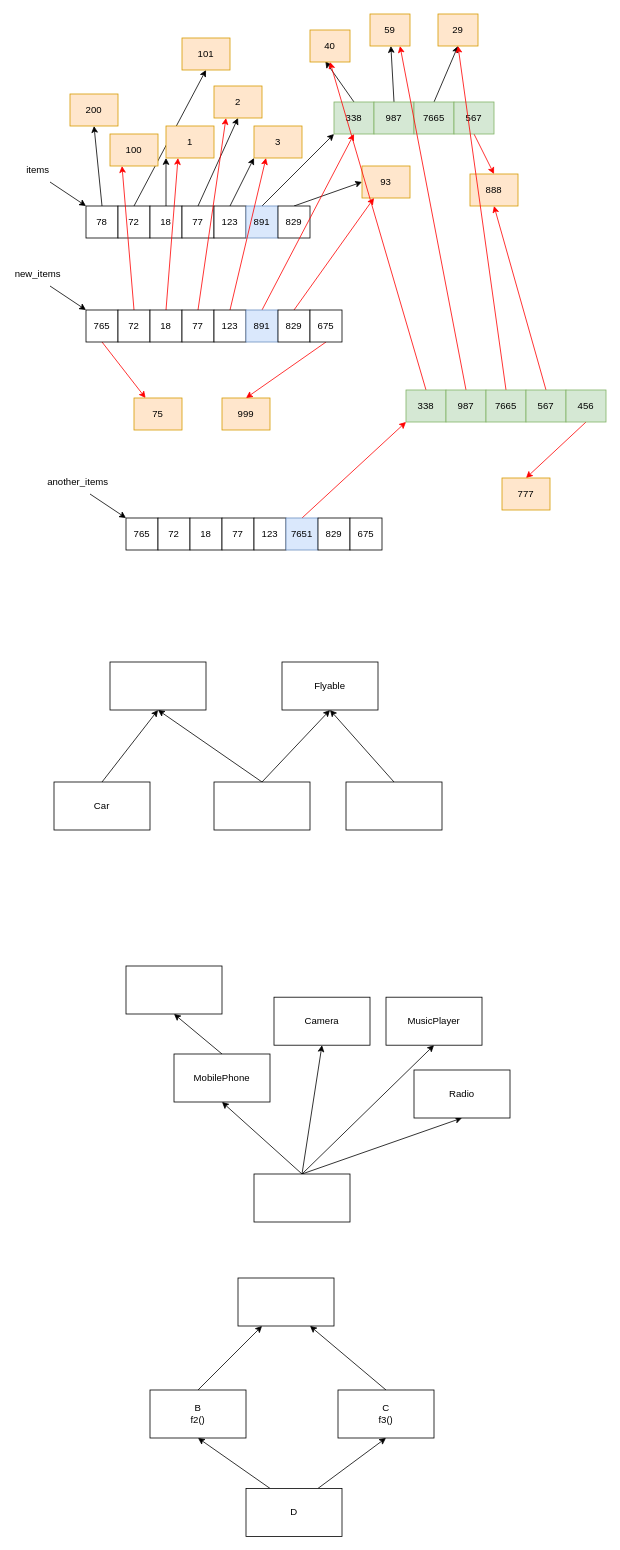
Some shapes in this 620 by 1550 pixel diagram are drawn without their labels. Here are the shapes that lost their labels. From the top down, the box of each, then its label:
(109, 661, 206, 710): Vehicle
(213, 781, 310, 830): Aeroplane
(345, 781, 442, 830): Bird
(125, 965, 222, 1014): Phone
(253, 1173, 350, 1222): SmartPhone
(237, 1277, 334, 1326): A f1()
